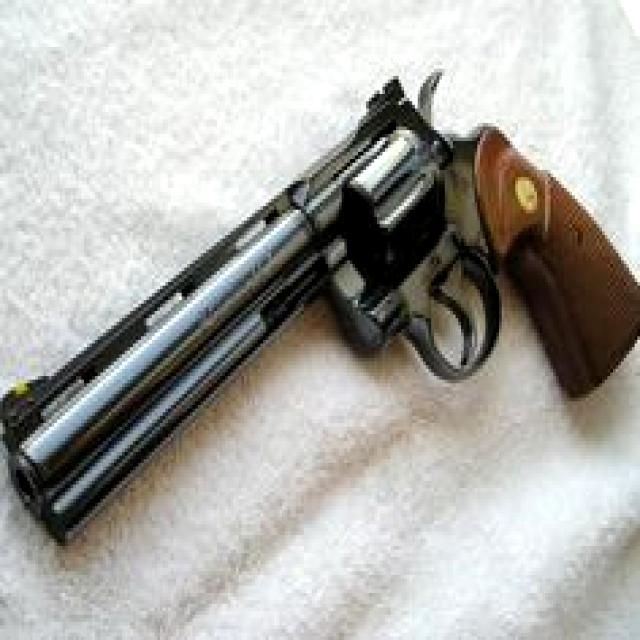revolver: (3, 9, 640, 640)
